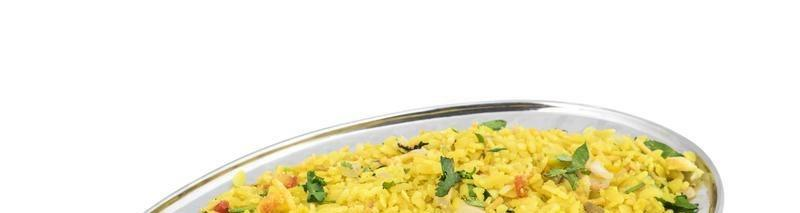Poha: (199, 121, 707, 213)
